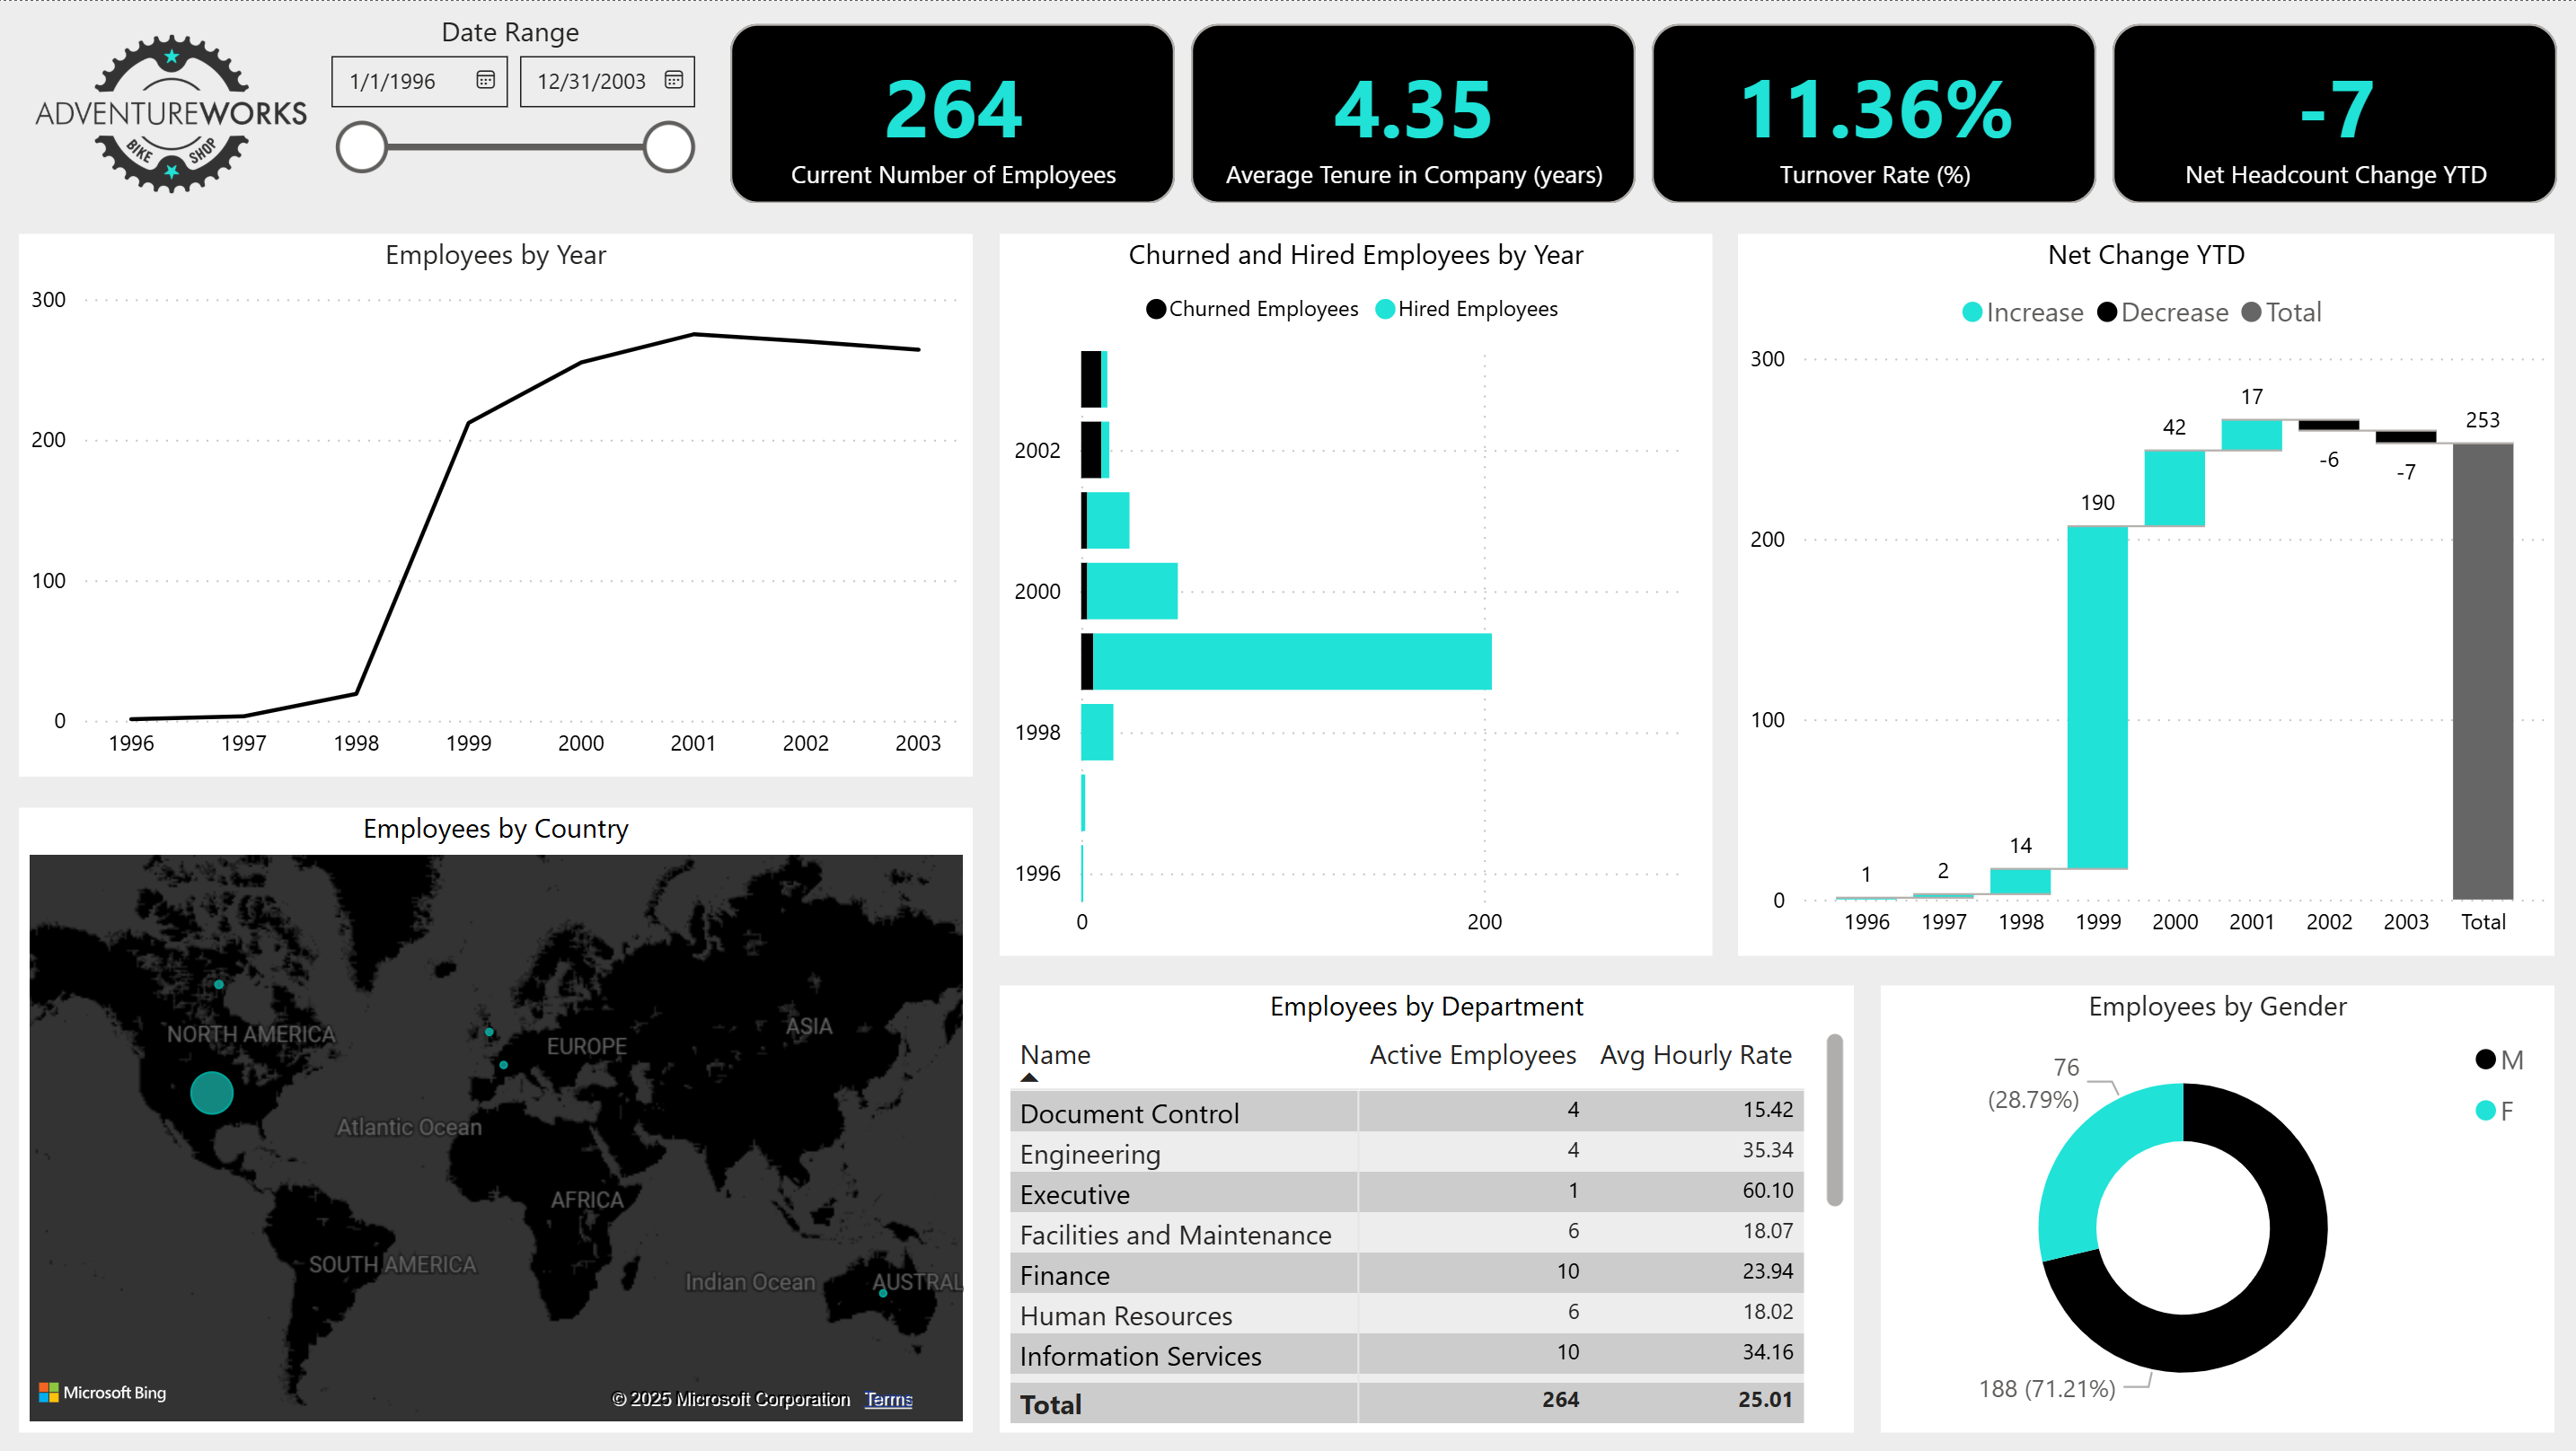

The dashboard page shown, as its layout file describes it:
{"tool":"powerbi","page":{"name":"HR dashboard","canvas":[1280,720],"ordinal":0},"visuals":[{"type":"shape","box":[0,0,1280,720.5],"z":0},{"type":"image","box":[0,5.7,174.9,99.6],"z":1000},{"type":"slicer","fields":{"Values":["Date.Date"]},"box":[158.6,22.1,191.4,74.3],"z":3000},{"type":"lineChart","title":"Employees by Year","fields":{"Category":["Date.Year"],"Y":["Measures Table.Total Number of Active Employees"]},"box":[12.1,115,472.1,268.6],"z":4000},{"type":"barChart","title":"Churned and Hired Employees by Year","fields":{"Category":["Date.Calendar.Year","Date.Calendar.Month","department.Name"],"Y":["Measures Table.Churned Employees (leavers)","Measures Table.Total Number of Employees Hired"]},"box":[497.1,115,352.9,357.1],"z":5000},{"type":"map","title":"Employees by Country","fields":{"Category":["countryregion.Name"],"Size":["Measures Table.Current Number of Employees"]},"box":[12.1,399.3,472.1,309.3],"z":6000},{"type":"donutChart","title":"Employees by Gender","fields":{"Category":["employee.Gender"],"Y":["Measures Table.Total Number of Active Employees"]},"box":[933.6,487.1,333.6,221.4],"z":7000},{"type":"waterfallChart","title":"Net Change YTD","fields":{"Y":["Measures Table.Net Change YTD"],"Category":["Date.Calendar.Year","Date.Calendar.Month"]},"box":[862.9,115,404.3,357.1],"z":8000},{"type":"cardVisual","fields":{"Data":["Measures Table.Current Number of Employees","Measures Table.Avg Tenure in Company (Years)","Measures Table.Turnover Rate (%)","Measures Table.Net Change YTD"]},"box":[358.4,5.7,921.6,99.6],"z":10000},{"type":"textbox","box":[216.2,0,91.7,28.4],"z":11000},{"type":"pivotTable","title":"Employees by Department","fields":{"Rows":["department.Name"],"Values":["Measures Table.Total Number of Active Employees","Measures Table.Avg Hourly Rate by Dept"]},"box":[497.1,487.1,422.9,221.4],"z":12000}]}

Visuals, with their boxes in screenshot pixels (x1, y1, x2, y2), scaled from the page's 1280x720 canvas onto the 2576x1451 screenshot:
shape: pyautogui.locateOnScreen(0, 0, 2575, 1450)
image: pyautogui.locateOnScreen(0, 12, 352, 212)
slicer - Date.Date: pyautogui.locateOnScreen(319, 45, 704, 194)
"Employees by Year" lineChart: pyautogui.locateOnScreen(24, 232, 975, 773)
"Churned and Hired Employees by Year" barChart: pyautogui.locateOnScreen(1001, 232, 1711, 952)
"Employees by Country" map: pyautogui.locateOnScreen(24, 805, 975, 1428)
"Employees by Gender" donutChart: pyautogui.locateOnScreen(1879, 981, 2550, 1428)
"Net Change YTD" waterfallChart: pyautogui.locateOnScreen(1736, 232, 2550, 952)
cardVisual - Measures Table.Current Number of Employees x Measures Table.Avg Tenure in Company (Years): pyautogui.locateOnScreen(721, 12, 2575, 212)
textbox: pyautogui.locateOnScreen(435, 0, 620, 57)
"Employees by Department" pivotTable: pyautogui.locateOnScreen(1001, 981, 1851, 1428)
